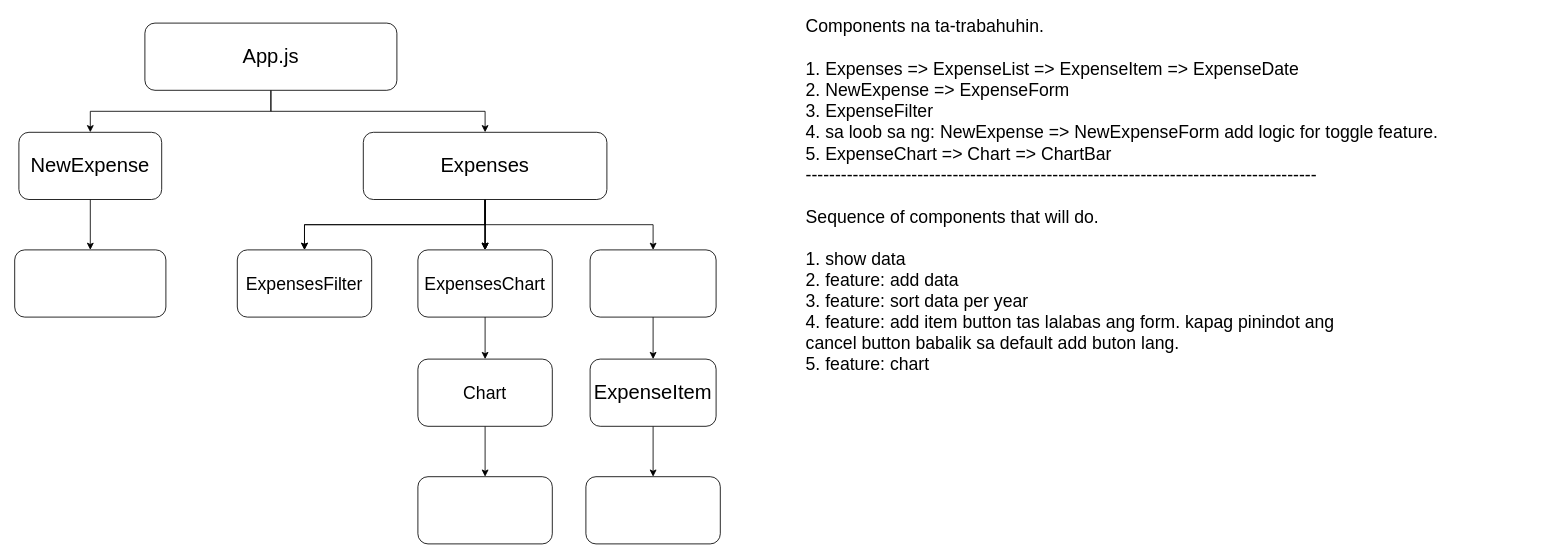
This 1550x559 diagram has some shape labels left out. The shapes that lost their labels are listed below. From the top down, each one's centre as x and y in pixels, then its label:
[90,283]: ExpenseForm
[652,283]: ExpenseList
[484,510]: ChartBar
[652,510]: ExpenseDate
